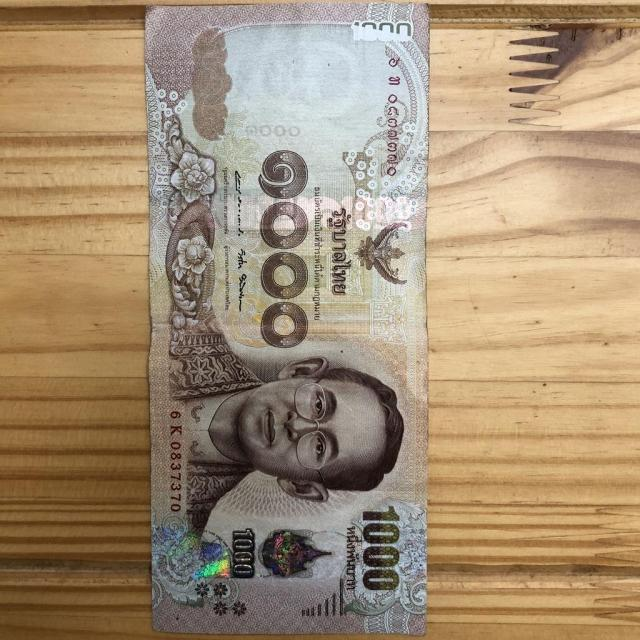THAI1000: (145, 2, 429, 634)
